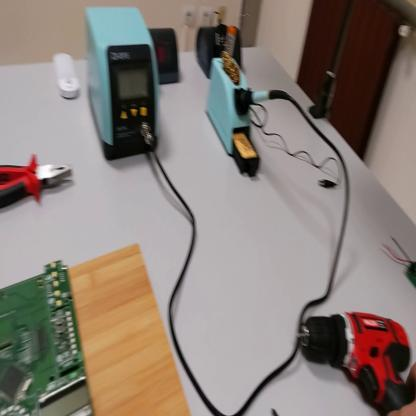electric screwdriver: (292, 310, 412, 416)
hand: (393, 364, 416, 415)
high voltage board: (381, 229, 416, 289)
low voltage board: (2, 253, 96, 415)
pliers: (2, 154, 73, 211)
socket: (196, 25, 244, 81), (150, 29, 182, 85)
welder base: (210, 22, 263, 186)
welder station: (86, 8, 161, 158)
working area: (70, 245, 193, 416)
